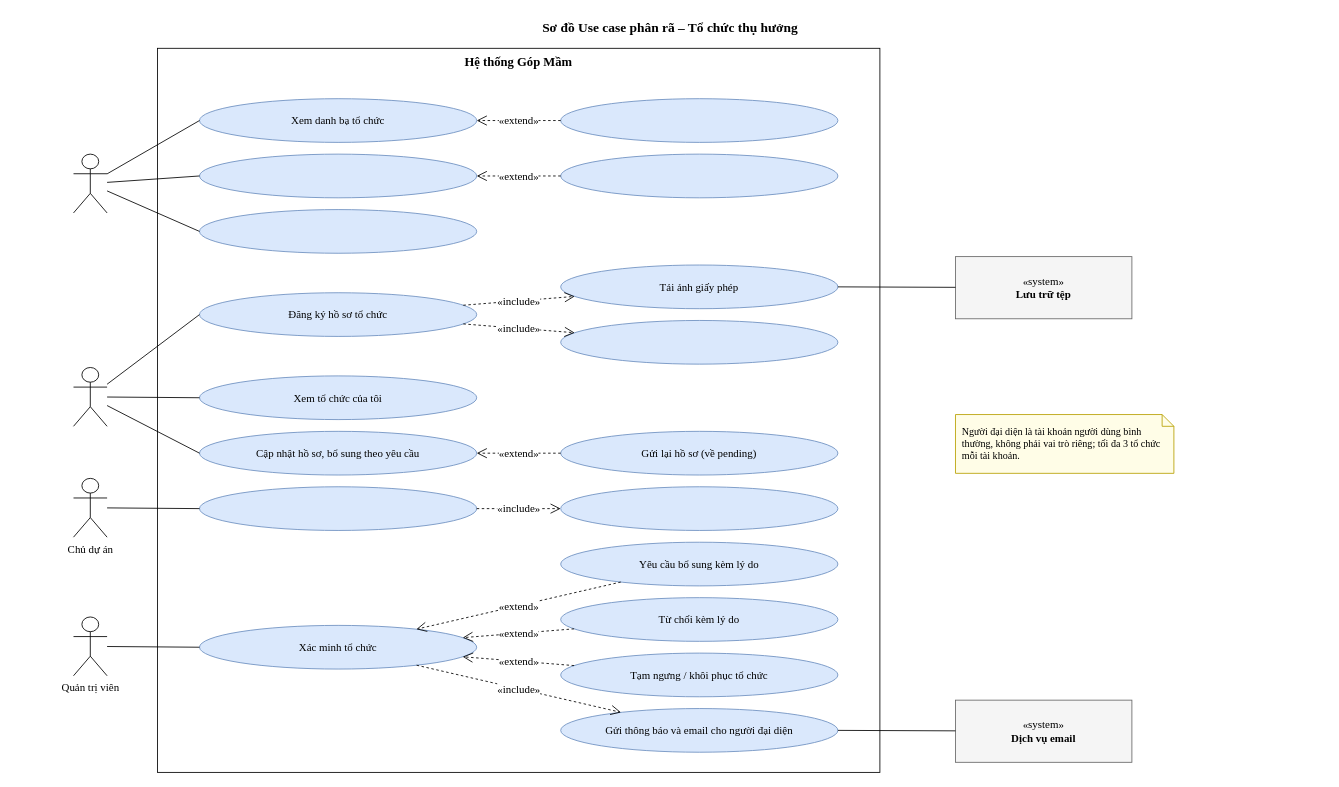
This 1339x787 diagram has some shape labels left out. The centre of each missing label's shape, as x and y in pixels:
"Chọn tổ chức ở bước 1 tạo chiến dịch" goes at [699,508].
"Gây quỹ cho tổ chức đã xác minh" goes at [338,508].
"Khách truy cập" goes at [90,183].
"Kiểm tra giới hạn 3 tổ chức và trùng giấy phép" goes at [699,342].
"Người đại diện tổ chức" goes at [90,396].
"Tìm theo tên, lọc theo loại hình" goes at [699,120].
"Xem hướng dẫn dành cho tổ chức" goes at [338,231].
"Xem số tiền đã huy động và chiến dịch thụ hưởng" goes at [699,175].
"Xem trang công khai của tổ chức" goes at [338,175].
